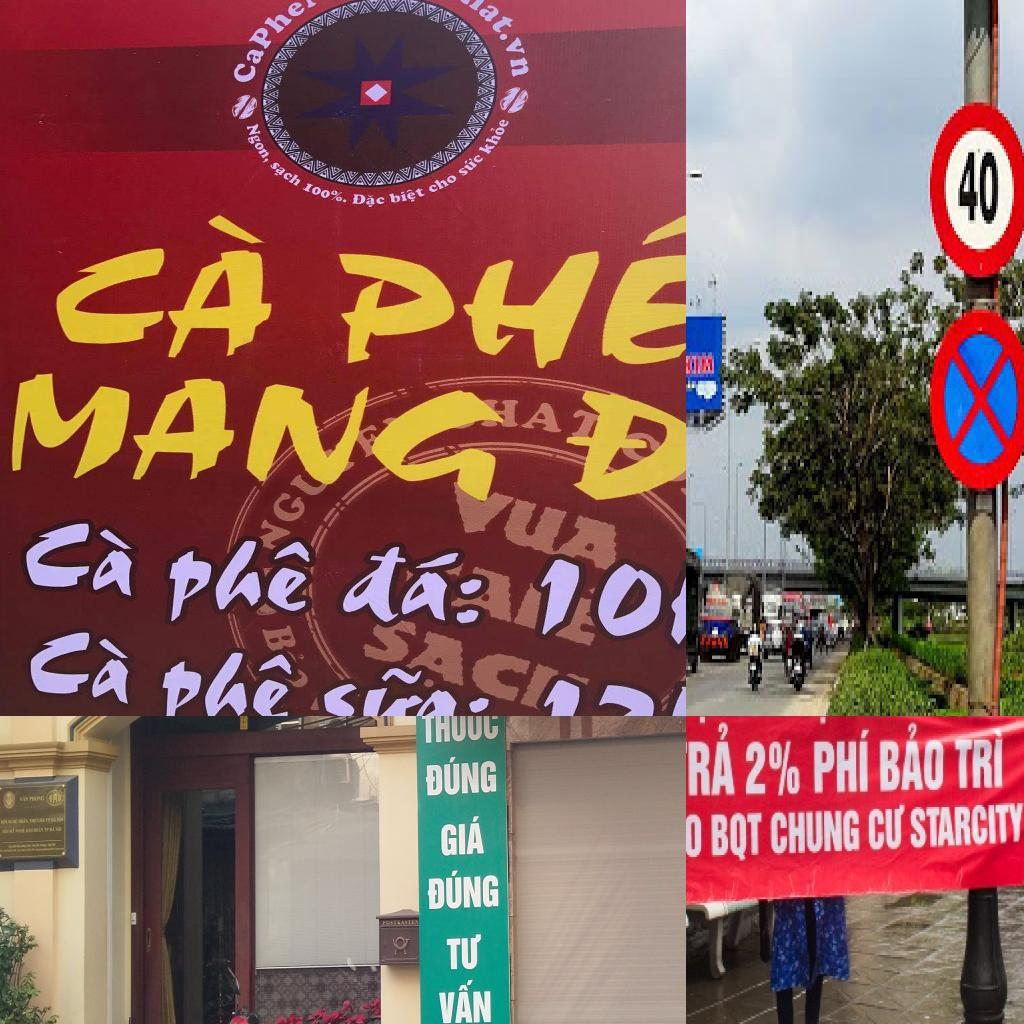text: (4, 366, 512, 504), (325, 209, 686, 376), (51, 197, 274, 363), (348, 612, 537, 706), (552, 384, 686, 514), (520, 554, 686, 657), (330, 539, 497, 633), (456, 482, 618, 576), (163, 533, 322, 625), (20, 511, 145, 601), (22, 622, 139, 708), (155, 648, 302, 716), (317, 660, 491, 716), (529, 675, 686, 716), (910, 803, 1024, 849), (879, 722, 946, 794), (770, 809, 861, 857), (812, 730, 872, 796), (686, 722, 737, 797), (438, 0, 525, 42), (956, 152, 1002, 231), (424, 751, 497, 797), (427, 864, 500, 910), (745, 738, 801, 797), (245, 0, 309, 50), (954, 728, 1004, 790), (435, 976, 494, 1024), (710, 812, 763, 862), (420, 716, 500, 746), (439, 813, 485, 857), (868, 805, 906, 853), (266, 486, 311, 526), (228, 44, 269, 86), (445, 928, 484, 970), (238, 123, 276, 165), (518, 400, 563, 434), (476, 116, 512, 156), (502, 35, 531, 78), (261, 623, 300, 654), (266, 161, 304, 191), (301, 182, 348, 204), (388, 186, 430, 206), (686, 812, 703, 860), (456, 152, 486, 178), (686, 352, 716, 377), (427, 173, 460, 195), (352, 193, 386, 209), (381, 918, 419, 926), (29, 794, 45, 802), (19, 794, 29, 802), (7, 818, 18, 825), (18, 817, 28, 824), (56, 815, 64, 823), (0, 818, 9, 825), (54, 826, 62, 832), (51, 815, 56, 822), (46, 818, 51, 824), (44, 827, 49, 833), (50, 826, 54, 832)
